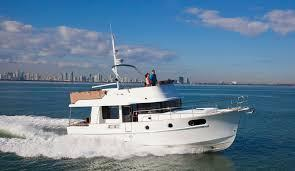Ship: (62, 24, 256, 159)
